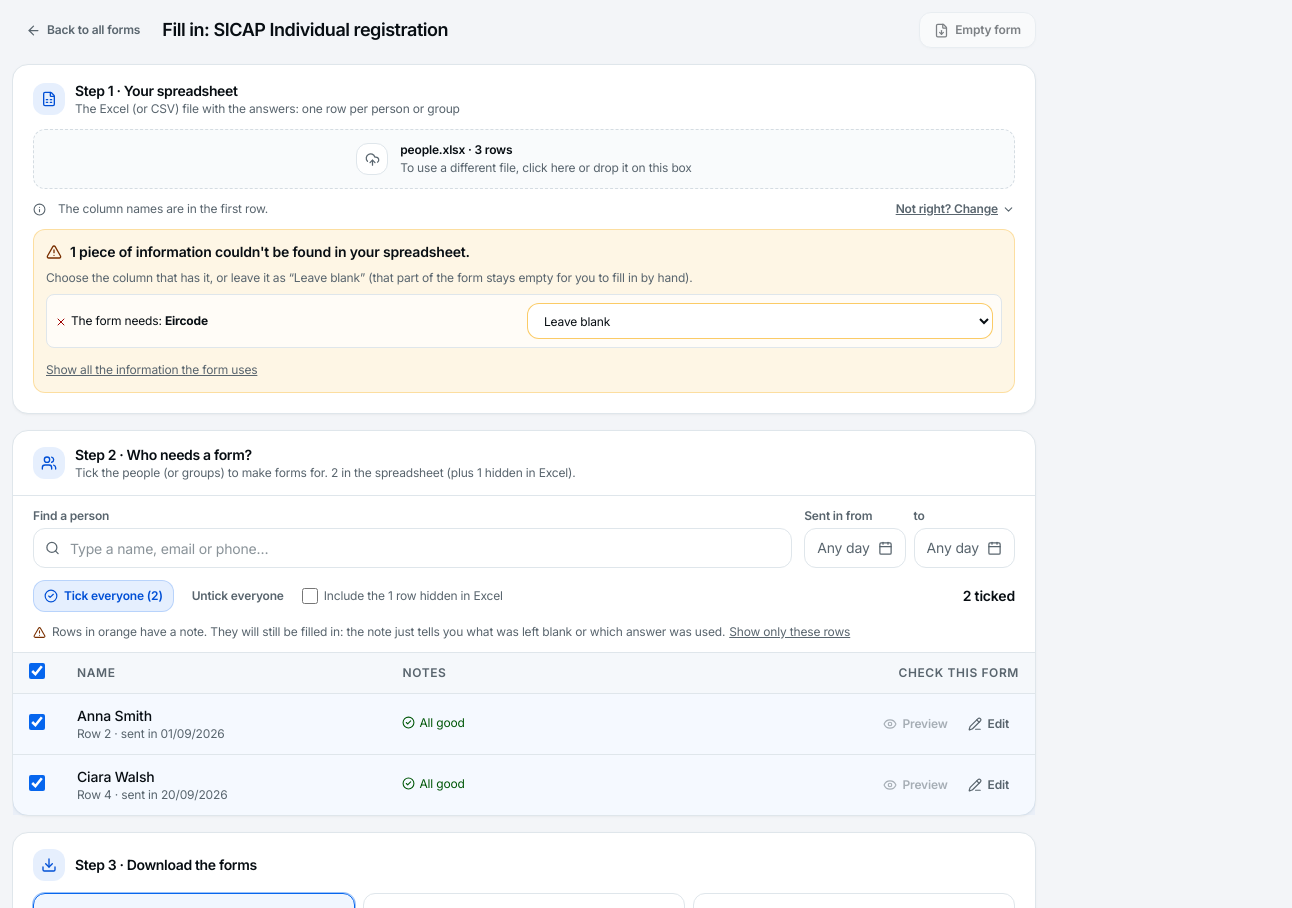
Test: FillView › leaves out rows hidden in Excel unless asked
Expected: the text "Brian Kelly" is not shown
Click the checkbox labelled "Include the 1 row hidden in Excel" at (310, 596), box [302,588,318,604]
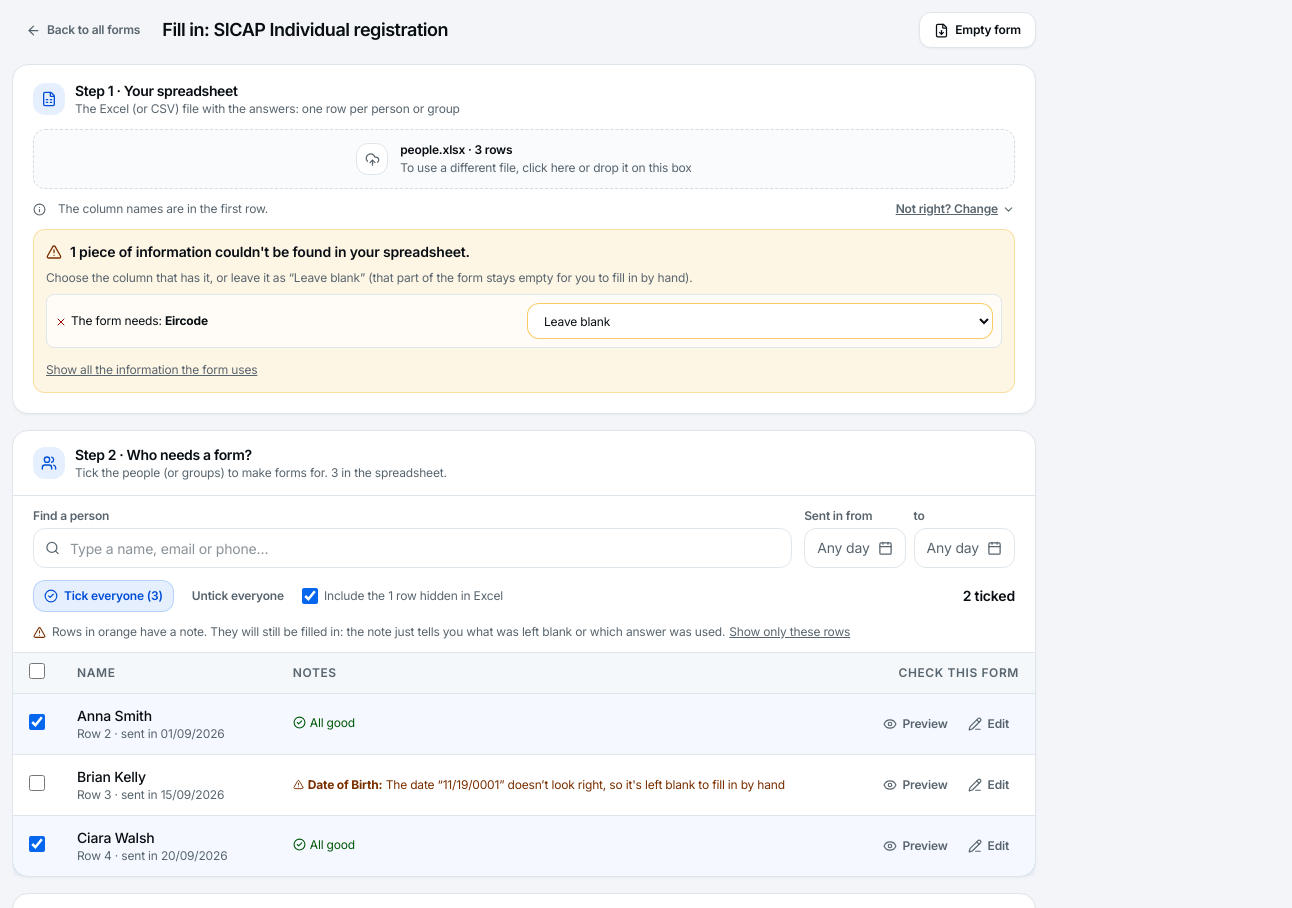
Expected: the text "Brian Kelly" is shown, [77,768,146,785]
